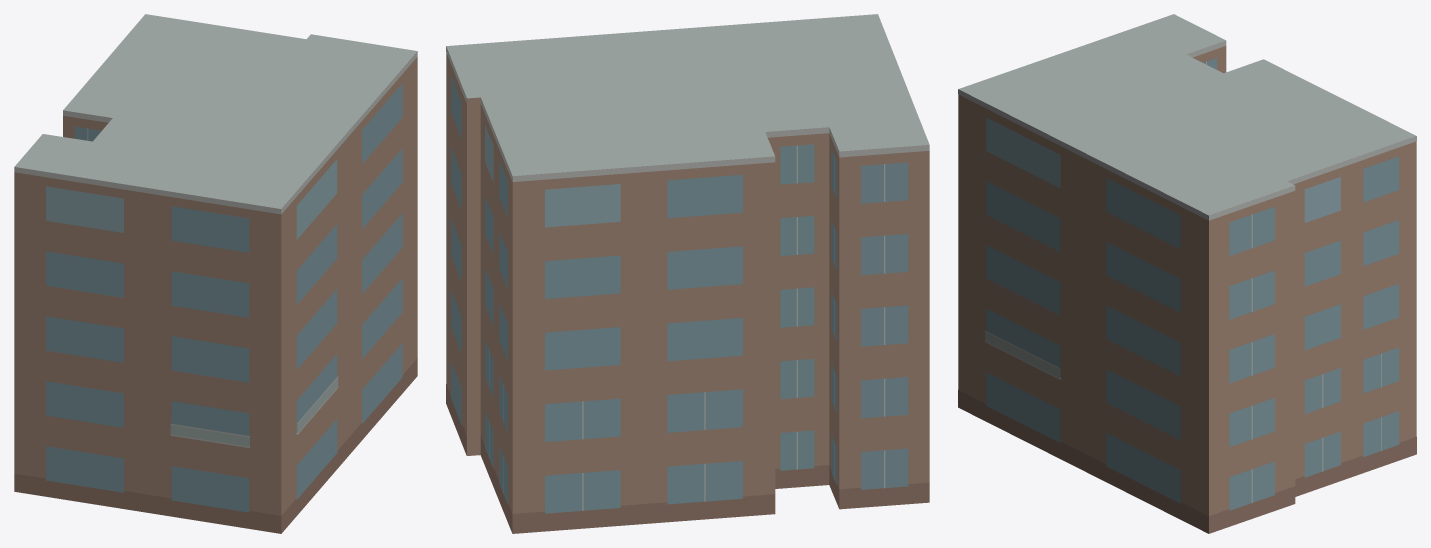
File: survey-upis-32693479.glb
The picture shows the model from 3 angles, left to right: view 1: azimuth 30°, elevation 25°; view 2: azimuth 150°, elevation 25°; view 3: azimuth 270°, elevation 25°; orthographic projection. The views are drawn at different scales.
Visible parts, largest first — view 1: survey-upis-32693479.tmp; view 2: survey-upis-32693479.tmp; view 3: survey-upis-32693479.tmp.
Boxes of the visible parts, x1,y1,x2,y2 form: survey-upis-32693479.tmp: [14, 14, 417, 533]; survey-upis-32693479.tmp: [446, 14, 929, 533]; survey-upis-32693479.tmp: [958, 14, 1416, 533].
Bounding box in the file's own units: 20.16 × 14.85 × 19.39.
